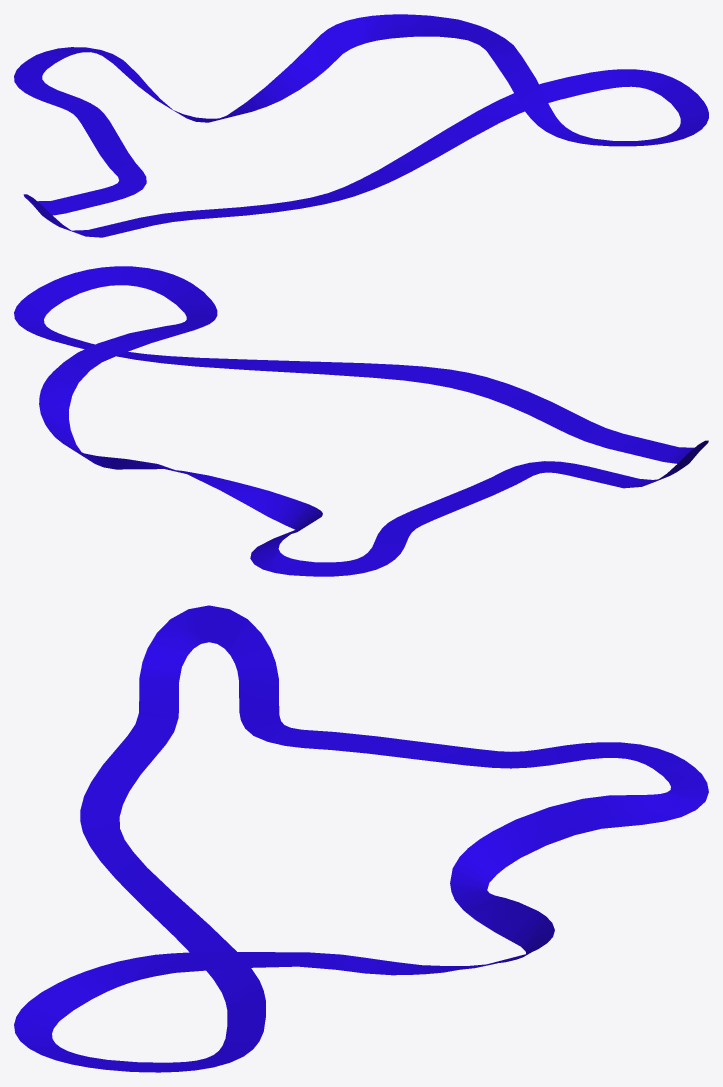
File: RaceTrackDecMesh.fbx
3 views of the same model, one above another, from view 1: azimuth 30°, elevation 25°; view 2: azimuth 150°, elevation 25°; view 3: azimuth 270°, elevation 25° (orthographic). The views are drawn at different scales.
Visible parts, largest first — view 1: BezierCurve.001; view 2: BezierCurve.001; view 3: BezierCurve.001.
Part boxes in pixels (x1,y1,x2,y2): BezierCurve.001: (14,14,708,237); BezierCurve.001: (14,266,708,576); BezierCurve.001: (14,605,708,1072).
Size of the model in its own units: 2009 by 204 by 1390.
